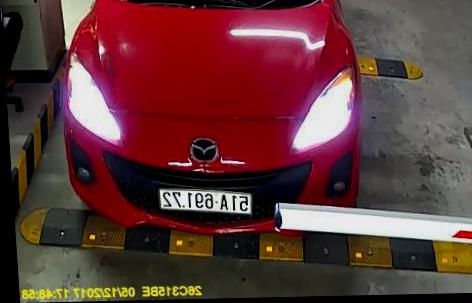License_Plate: (155, 186, 258, 215)
